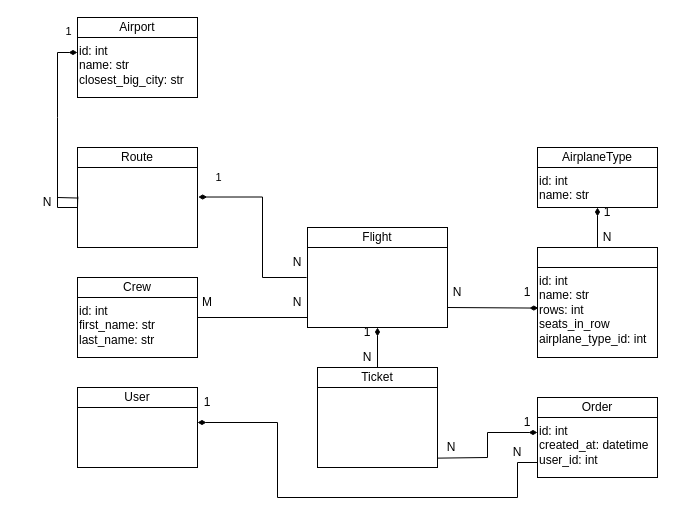
Image size: 675x523. Some labels were removed from this diagram. The shapes that lost their labels are listed below. From the top down, each one's box as (x1, y1, x2, y2) in pixels, then its label:
(76, 166, 198, 248): id: int source_id: int destination_id: int distance: int
(536, 246, 658, 268): Airplane
(306, 246, 448, 328): id: int route_id: int departure_time: datetime arrival_time: datetime
(76, 406, 198, 468): id: int username: str email: str password: str
(316, 386, 438, 468): id: int row: int seat: int flight_id: int order_id: int
